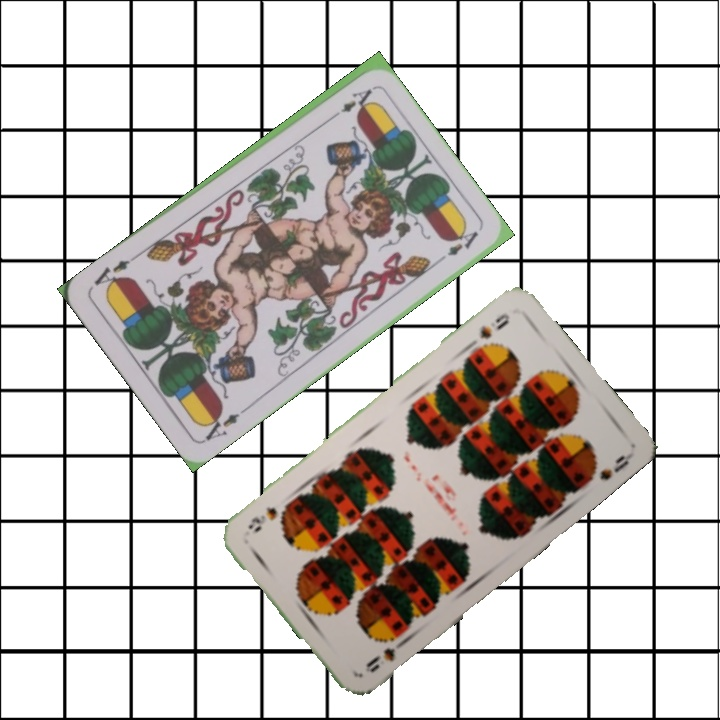EA: (324, 85, 375, 124), (197, 407, 242, 444)
S9: (465, 309, 513, 352), (361, 634, 410, 676)
